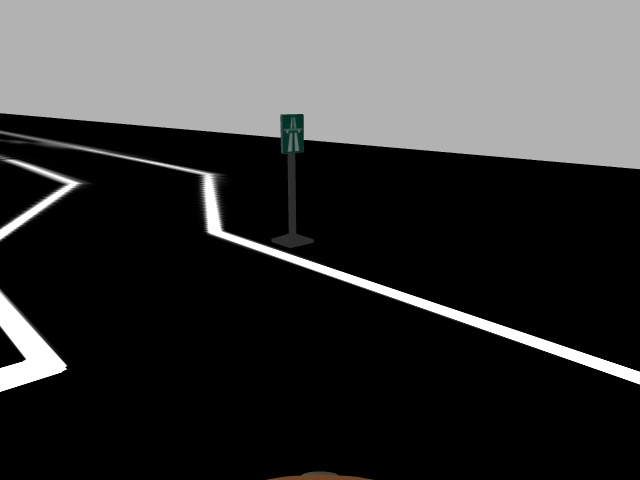enter_highway: (277, 113, 306, 154)
